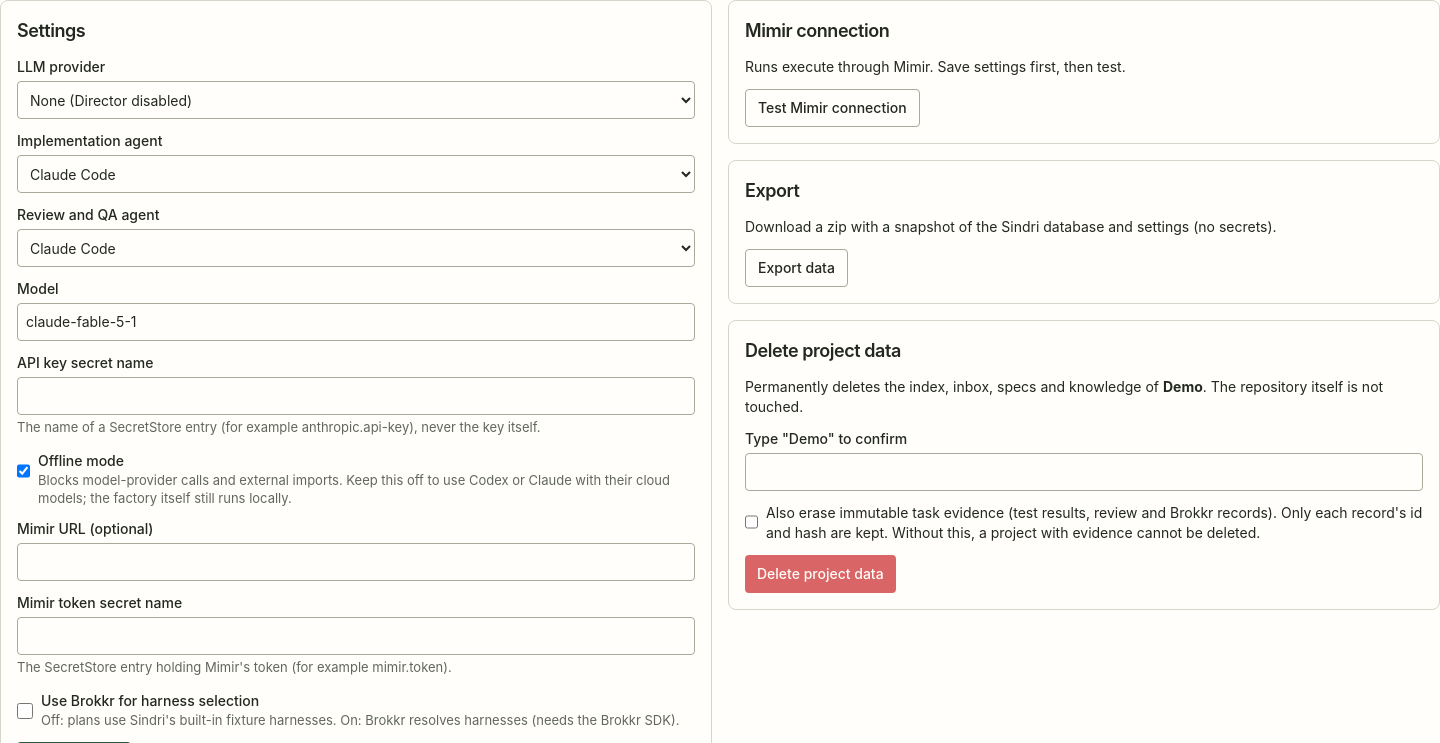
Test: SettingsScreen › exports data
Click the button "Export data" at (796, 268), box [745, 249, 848, 287]
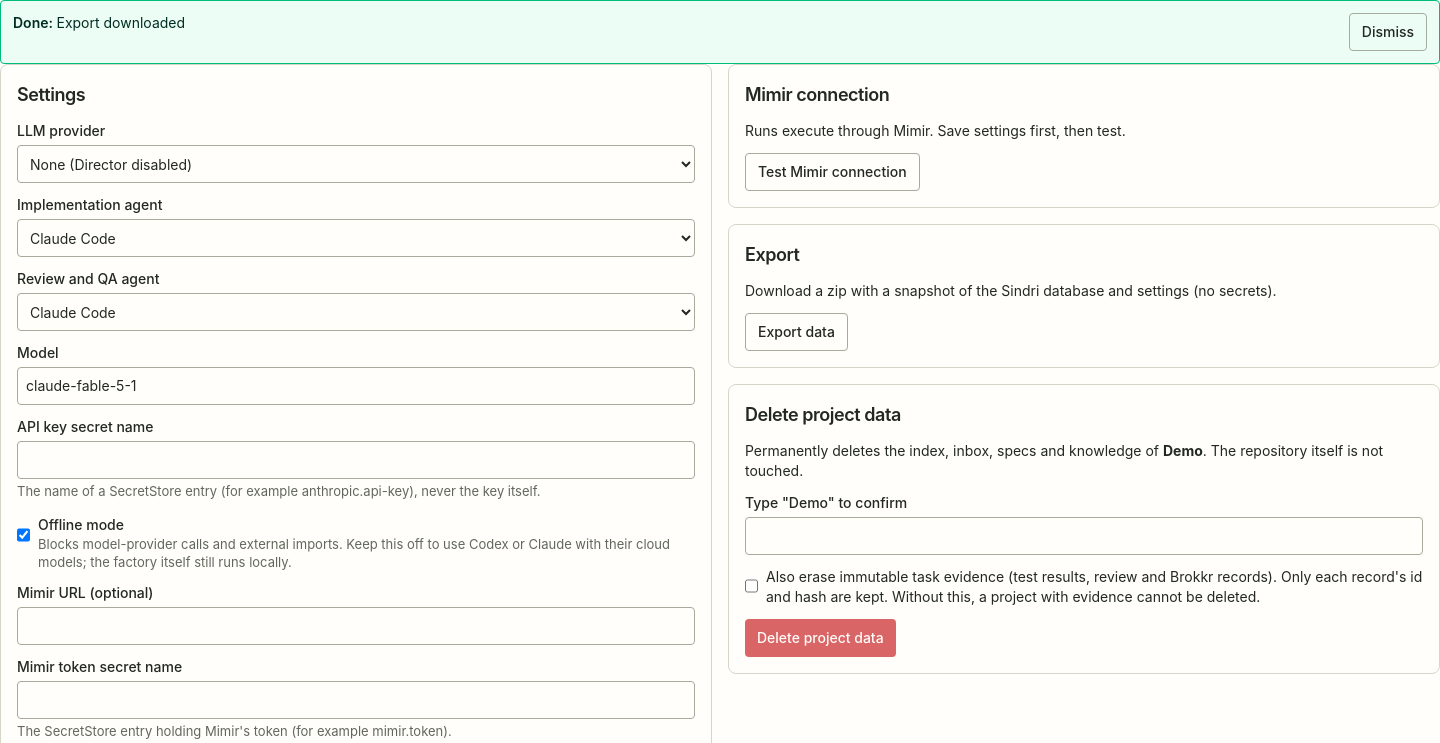
Now the message shows "Export downloaded", box [56, 14, 185, 31]
